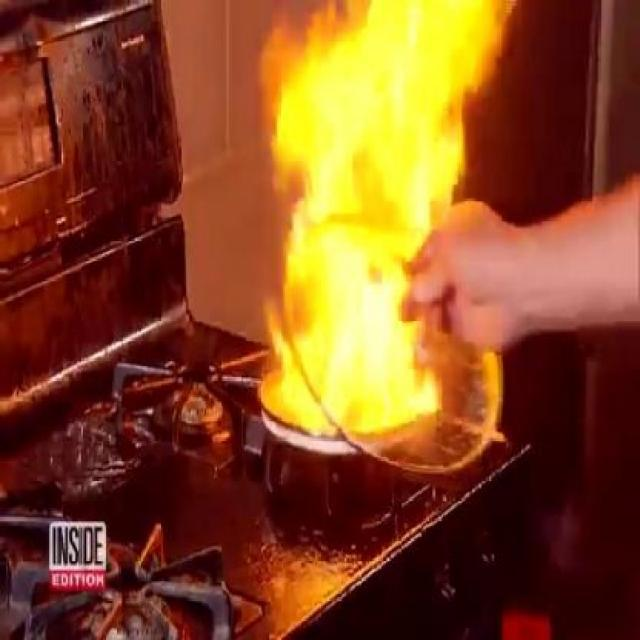fire: (257, 12, 400, 411), (412, 2, 510, 158)
